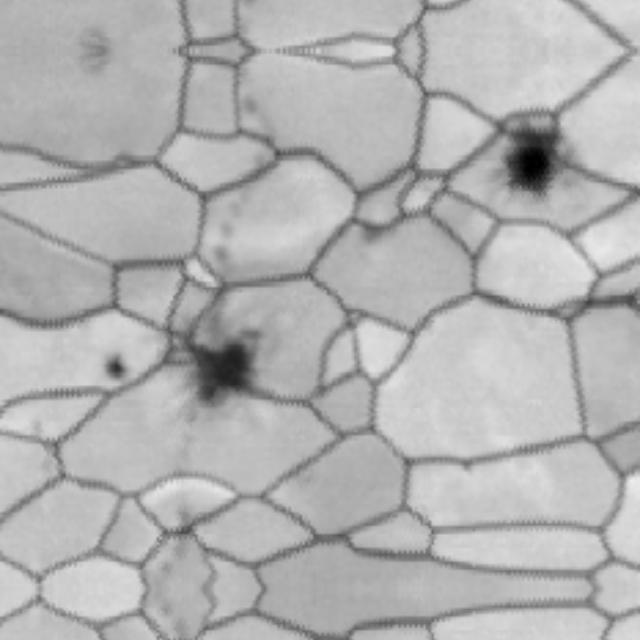good_void: (175, 294, 262, 415), (497, 119, 563, 205), (338, 202, 405, 263), (151, 508, 204, 552), (236, 89, 268, 126), (71, 52, 112, 80), (71, 24, 112, 52), (448, 449, 480, 484), (101, 355, 131, 384), (153, 628, 202, 640), (236, 0, 265, 14)
